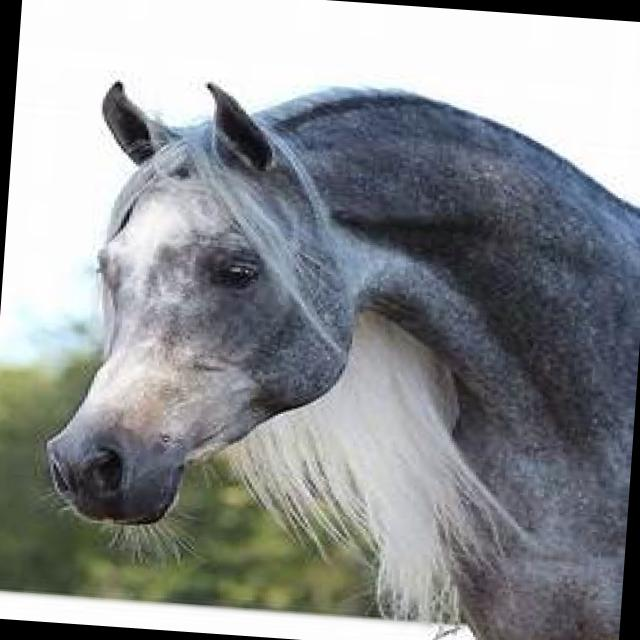horse: (29, 62, 640, 640)
